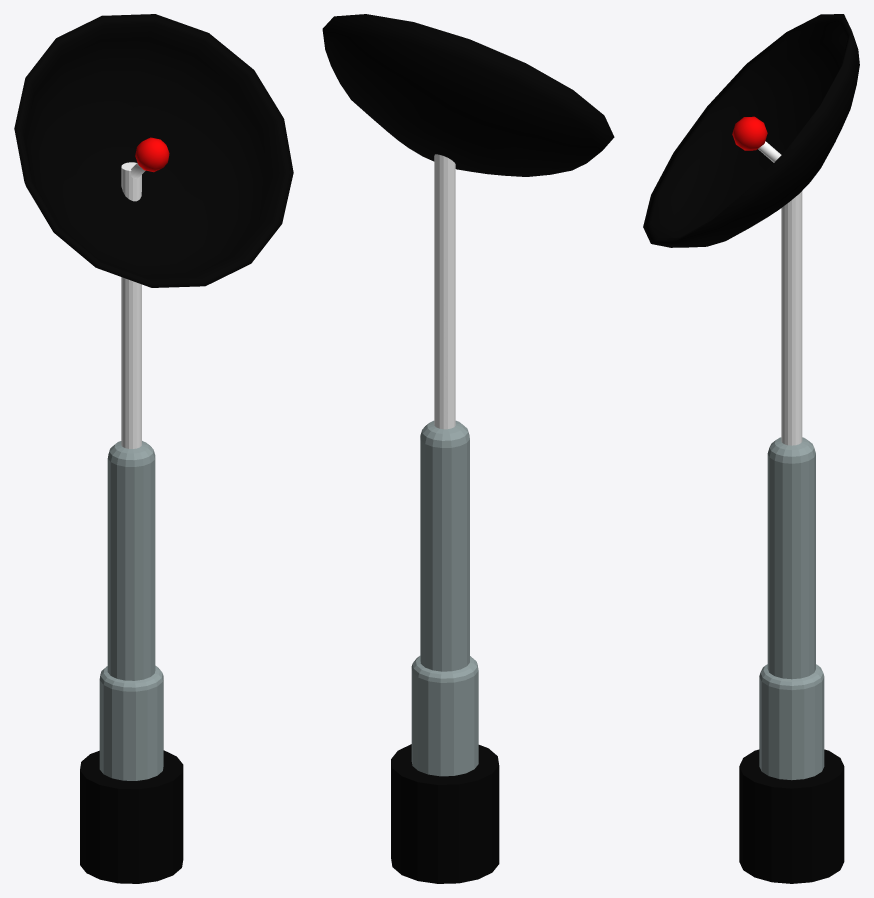
The model's file is Tower.fbx.
3 renders of one model, left to right at view 1: azimuth 30°, elevation 25°; view 2: azimuth 150°, elevation 25°; view 3: azimuth 270°, elevation 25°, orthographic. The views are drawn at different scales.
Parts seen in each view (by area): view 1: Tower; view 2: Tower; view 3: Tower.
Part boxes in pixels (left/top/right/bottom): Tower: left=14, top=14, right=293, bottom=883; Tower: left=322, top=14, right=614, bottom=883; Tower: left=643, top=14, right=859, bottom=883.
Size of the model in its own units: 777 by 2357 by 558.
